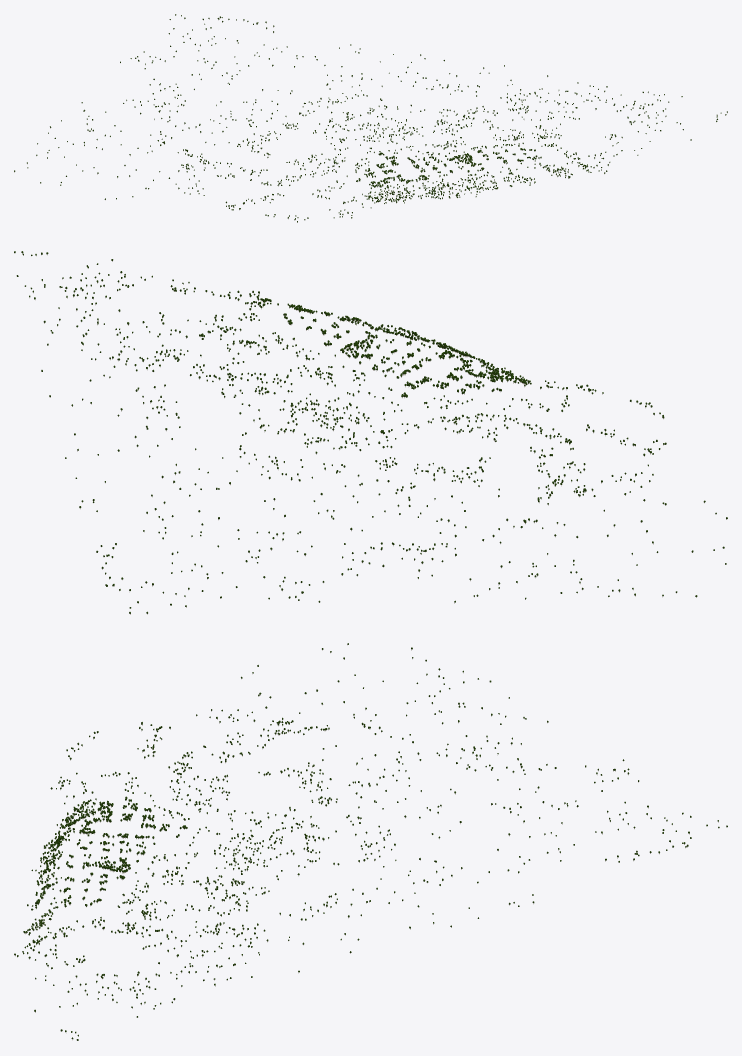
Rendered from Trees.fbx.
3 renders of one model, top to bottom at view 1: azimuth 30°, elevation 25°; view 2: azimuth 150°, elevation 25°; view 3: azimuth 270°, elevation 25°, orthographic. The views are drawn at different scales.
Bounding box in the file's own units: 287335 × 8556 × 218138.
